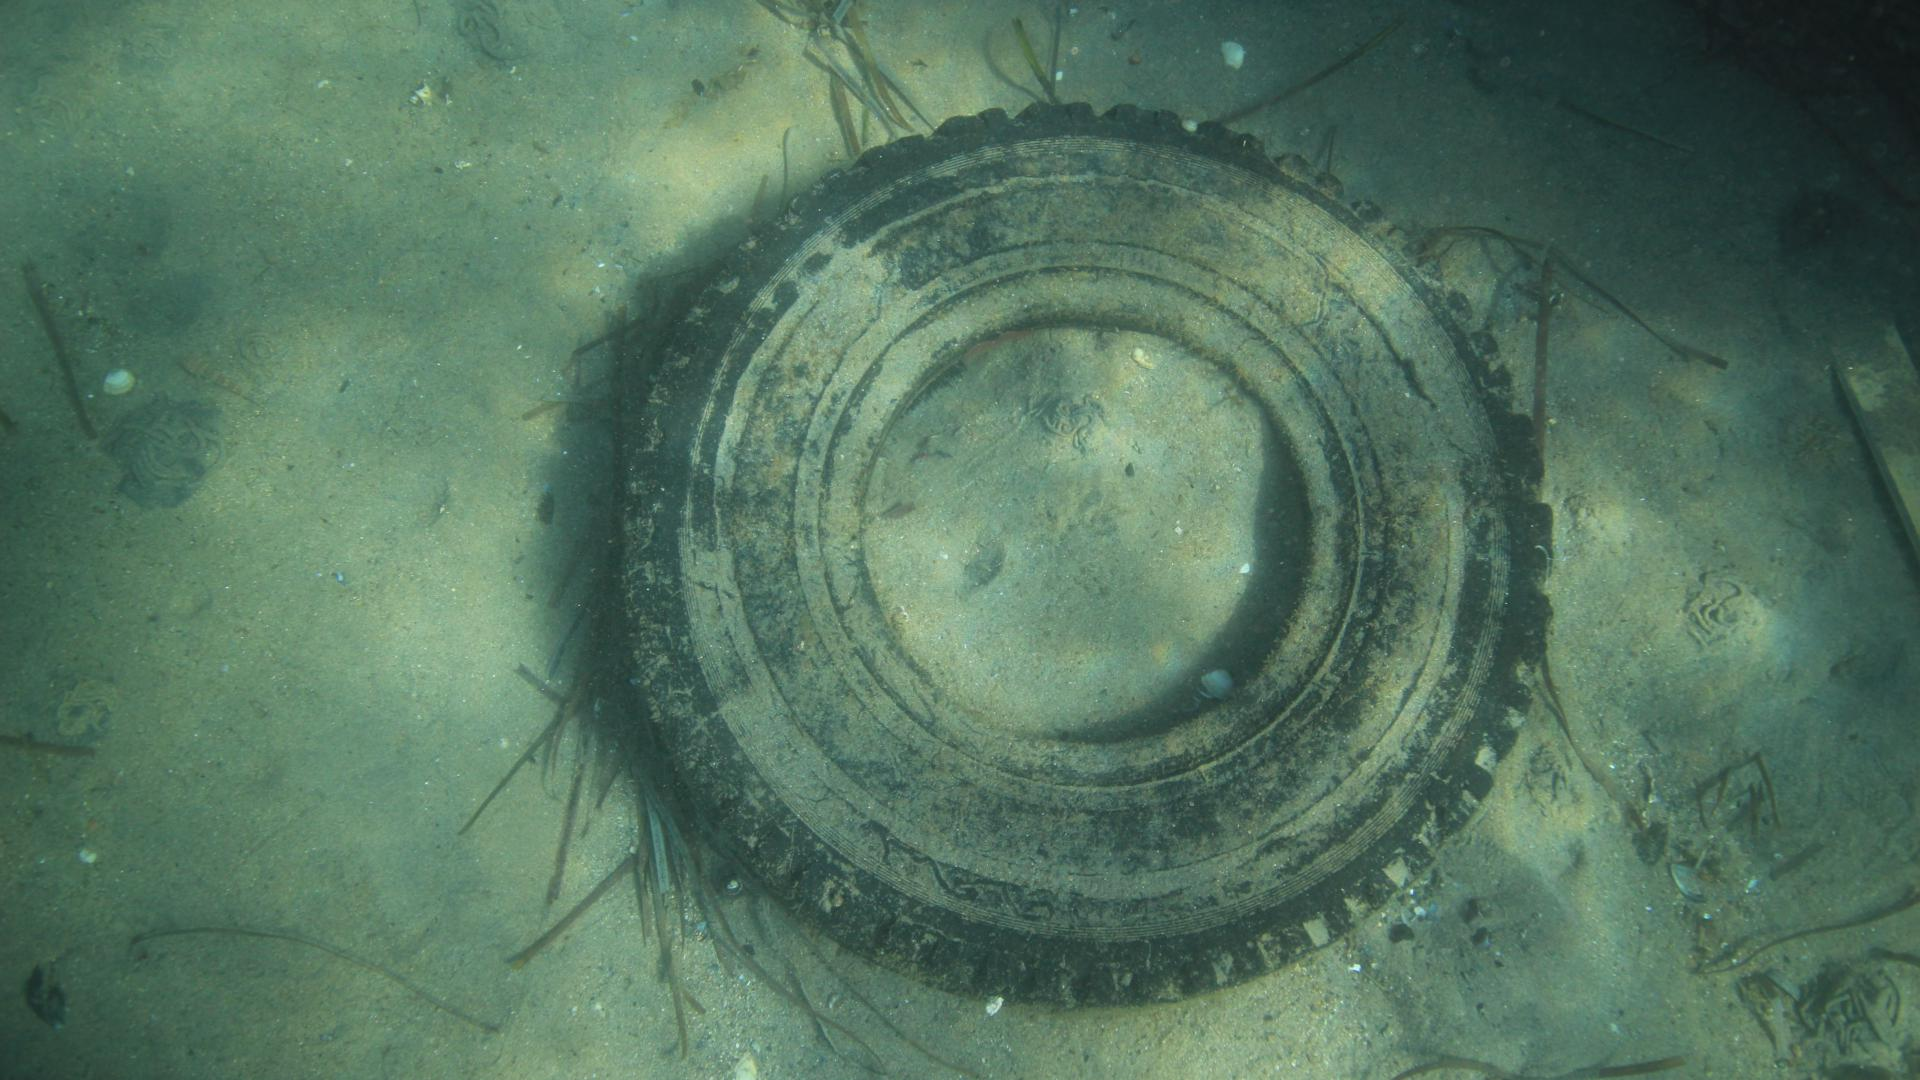tire: (615, 99, 1549, 1004)
